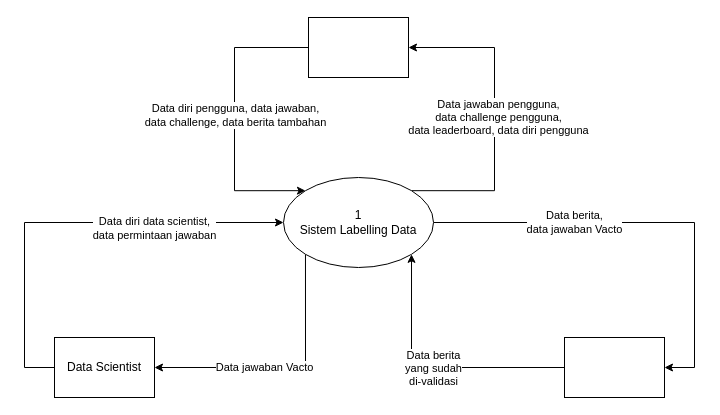
The diagram is 720 pixels wide and 415 high, and some of its shapes have lost their labels. The shapes that lost their labels are listed below. From the top down, each one's box as (x1, y1, x2, y2) in pixels, then its label:
(308, 16, 408, 78): Pengguna Biasa
(564, 336, 664, 398): Admin
